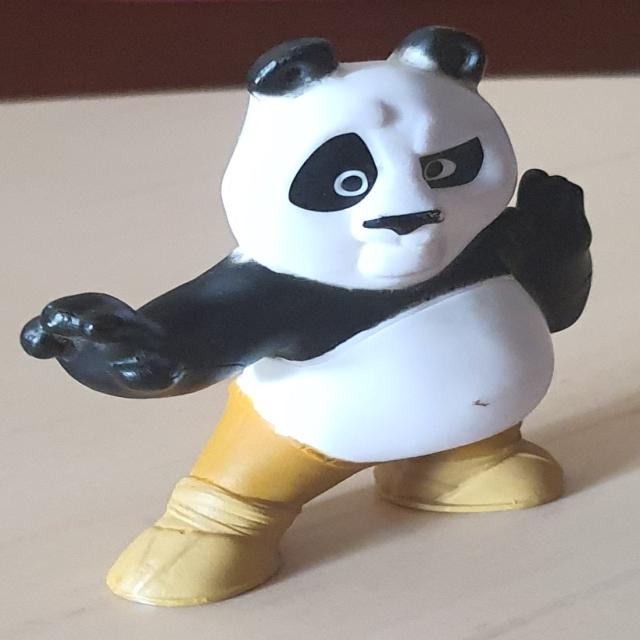Panda: (18, 24, 594, 608)
